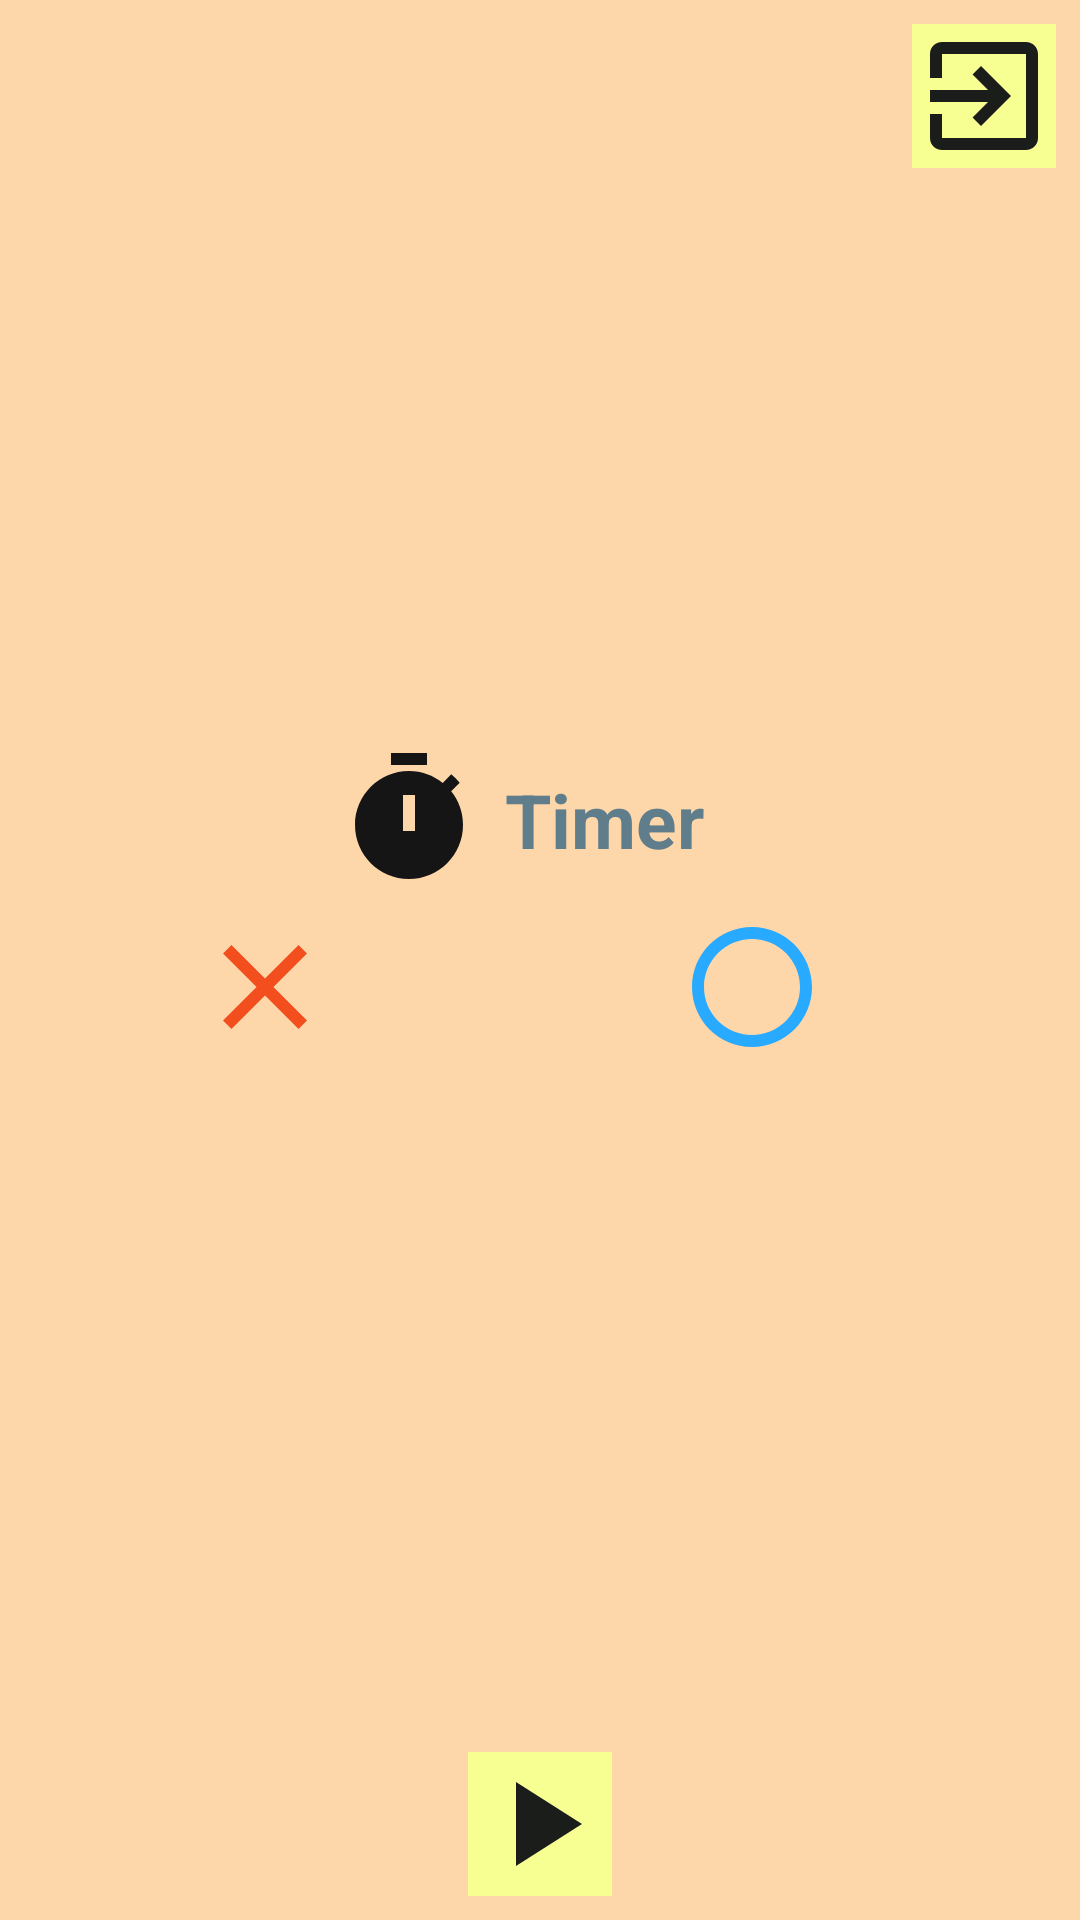

Locate icon controls on the screen. Image size 1080px×1920px, boxes as (x1, y1, x2, y2).
Quit: (912, 24, 1056, 168)
Start: (468, 1752, 612, 1896)
